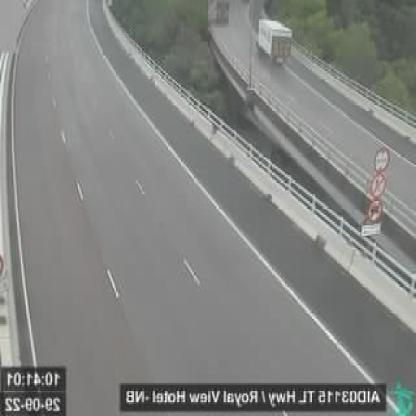Truck: (250, 15, 299, 66)
